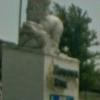Statue: (12, 1, 67, 64)
